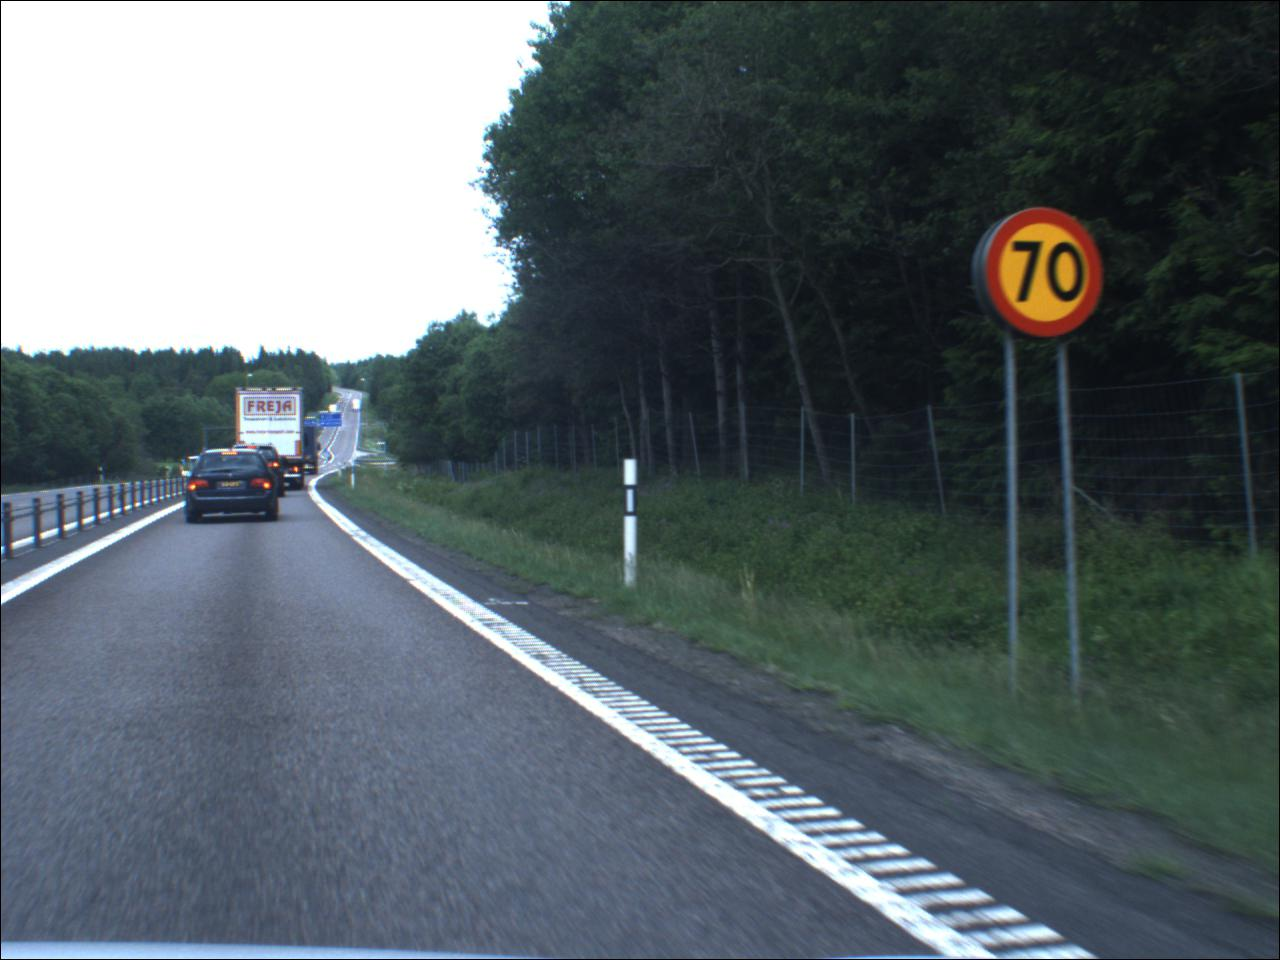70_SIGN: (984, 207, 1107, 341)
